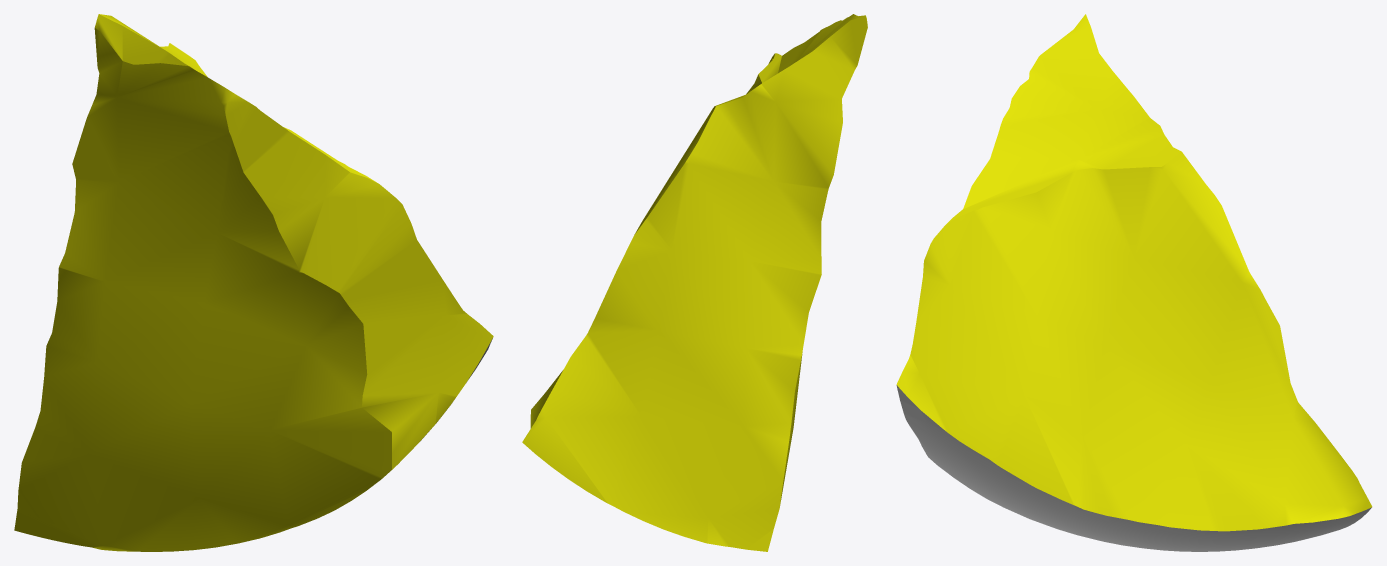
Rendered from moon_shard_9.fbx.
3 renders of one model, left to right at view 1: azimuth 30°, elevation 25°; view 2: azimuth 150°, elevation 25°; view 3: azimuth 270°, elevation 25°, orthographic. The views are drawn at different scales.
Visible parts, largest first — view 1: shard9; view 2: shard9; view 3: shard9.
Part boxes in pixels (x1,y1,x2,y2): shard9: (14, 14, 493, 551); shard9: (522, 14, 867, 551); shard9: (896, 14, 1372, 551).
Bounding box in the file's own units: 10.97 × 19.73 × 17.1.
